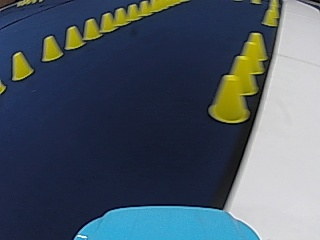cone: (208, 73, 249, 122), (238, 32, 267, 73), (228, 55, 257, 94), (10, 50, 33, 80), (41, 35, 63, 60), (64, 25, 83, 49), (82, 17, 99, 40), (99, 12, 114, 32), (262, 5, 277, 25), (112, 7, 126, 26), (126, 4, 139, 21), (138, 0, 149, 16)
